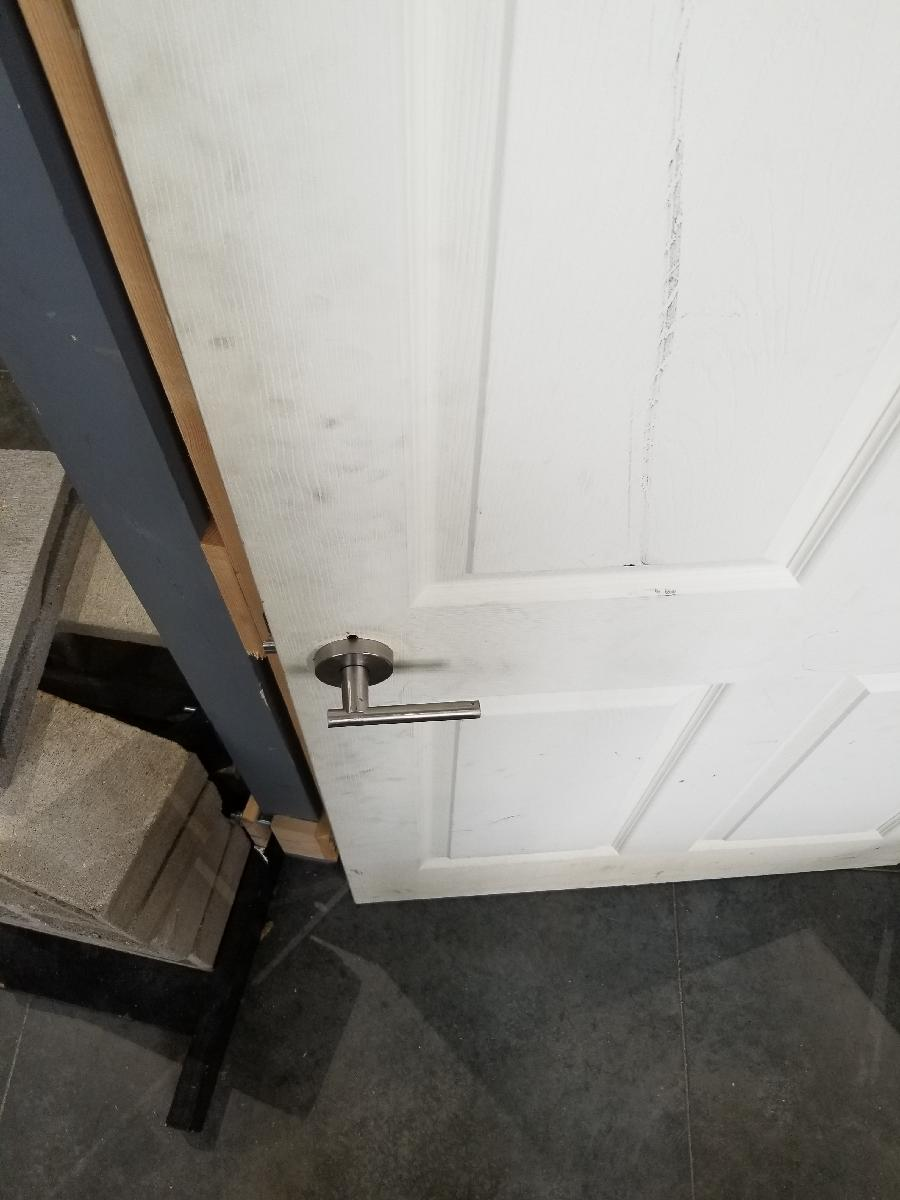doorHandle: (312, 635, 486, 738)
